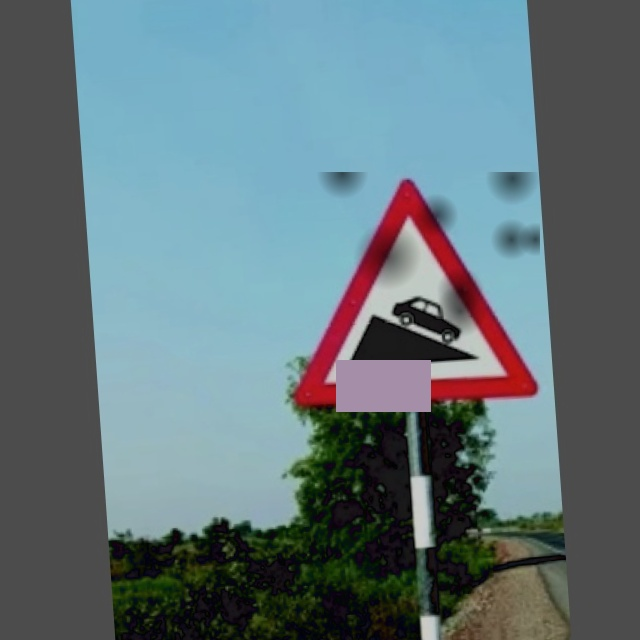Steep_Descent: (281, 172, 540, 413)
